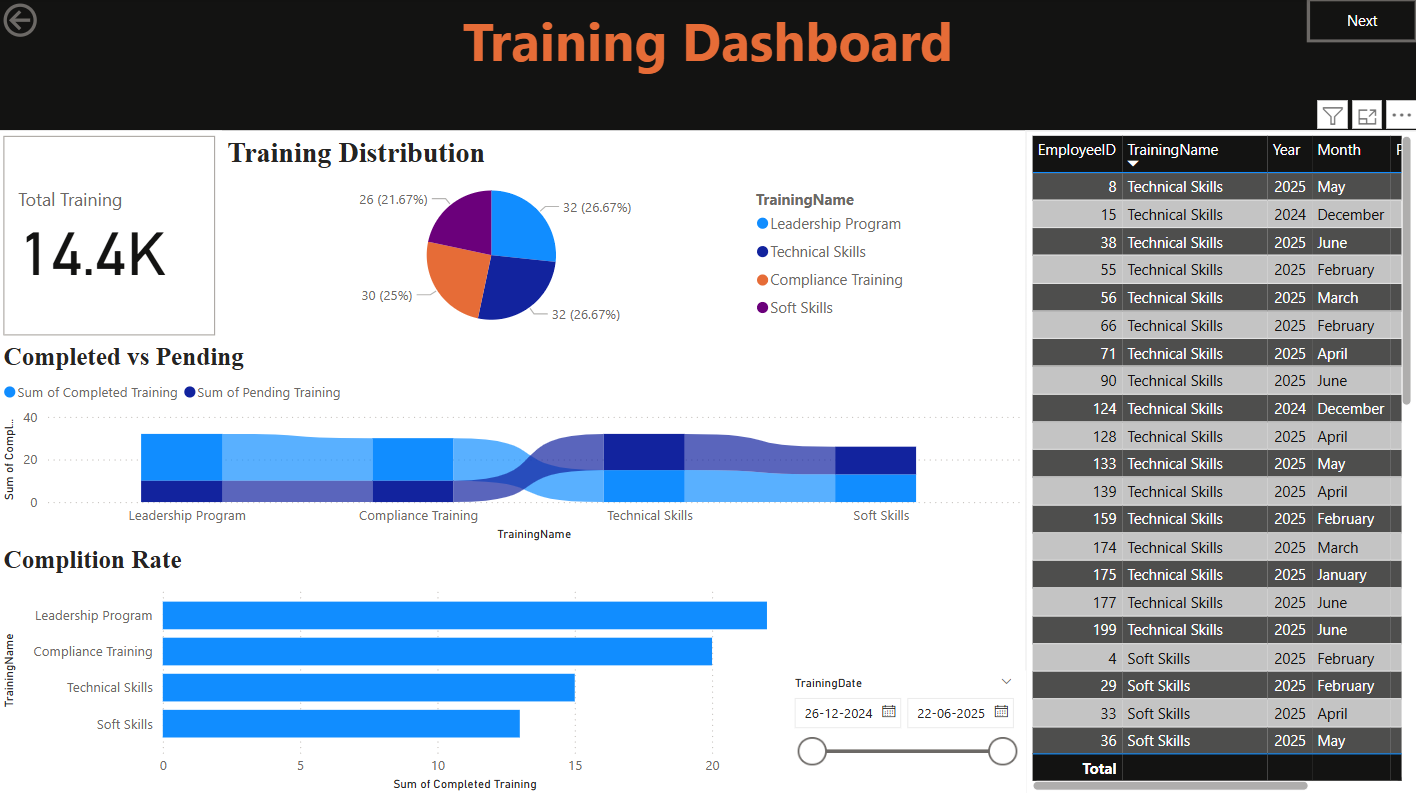

What the dashboard file says about the page in this screenshot:
{"tool":"powerbi","page":{"name":"Training Dashboard","canvas":[1280,720],"ordinal":4},"visuals":[{"type":"textbox","box":[0,0,1280.3,119.4],"z":0},{"type":"cardVisual","fields":{"Data":["Sum(Training.Total Training)"]},"box":[0,119.4,201.7,190.7],"z":1000},{"type":"ribbonChart","title":"Completed vs Pending","fields":{"Y":["Sum(Training.Completed Training)","Sum(Training.Pending Training)"],"Category":["Training.TrainingName"]},"box":[0,310.6,926.9,183.4],"z":2000},{"type":"clusteredBarChart","title":"Complition Rate","fields":{"Category":["Training.TrainingName"],"Y":["Sum(Training.Completed Training)"]},"box":[0,494,705.6,226.2],"z":3000},{"type":"pieChart","title":"Training Distribution","fields":{"Category":["Training.TrainingName"],"Y":["CountNonNull(Training.EmployeeID)"]},"box":[201.8,124.7,628.5,185.9],"z":4000},{"type":"tableEx","fields":{"Values":["Training.EmployeeID","Training.TrainingName","Training.TrainingDate.Variation.Date Hierarchy.Year","Training.TrainingDate.Variation.Date Hierarchy.Month","Sum(Training.Pending Training)"]},"box":[926.9,119.8,353.4,600.4],"z":5000},{"type":"slicer","fields":{"Values":["Training.TrainingDate"]},"box":[705.6,606.5,221.3,113.7],"z":6000},{"type":"actionButton","box":[0,0,100,40],"z":7000},{"type":"actionButton","box":[1180,0,100.3,40.4],"z":8000}]}

Visuals, with their boxes on the page's 1280x720 design canvas (x1, y1, x2, y2). These are canvas units, not pixel positions in the 1416x793 screenshot, which may show the page scaled, cropped or inside an application window:
textbox: 0, 0, 1280, 119
cardVisual - Sum(Training.Total Training): 0, 119, 202, 310
"Completed vs Pending" ribbonChart: 0, 311, 927, 494
"Complition Rate" clusteredBarChart: 0, 494, 706, 720
"Training Distribution" pieChart: 202, 125, 830, 311
tableEx - Training.EmployeeID x Training.TrainingName: 927, 120, 1280, 720
slicer - Training.TrainingDate: 706, 606, 927, 720
actionButton: 0, 0, 100, 40
actionButton: 1180, 0, 1280, 40
